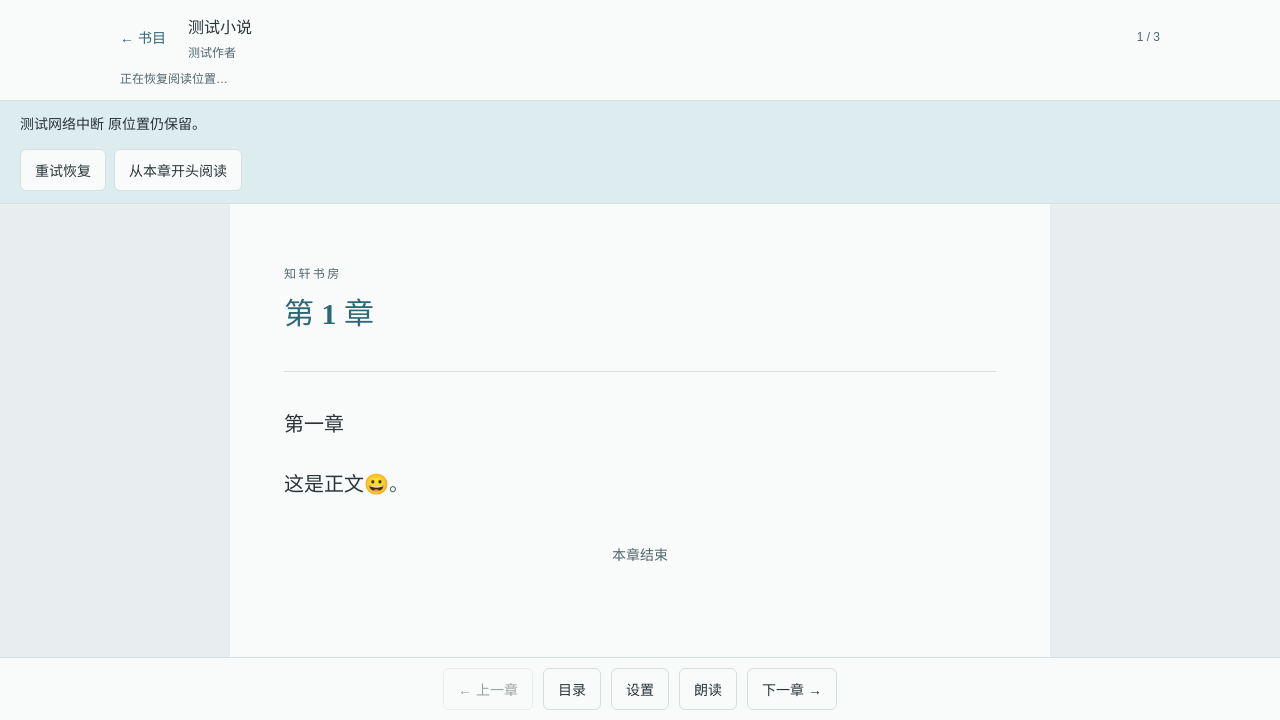
retries a pending local position after a network failure without replacing it with the server opening
Click the button "重试恢复": (63, 170) x1=20 y1=149 x2=106 y2=191
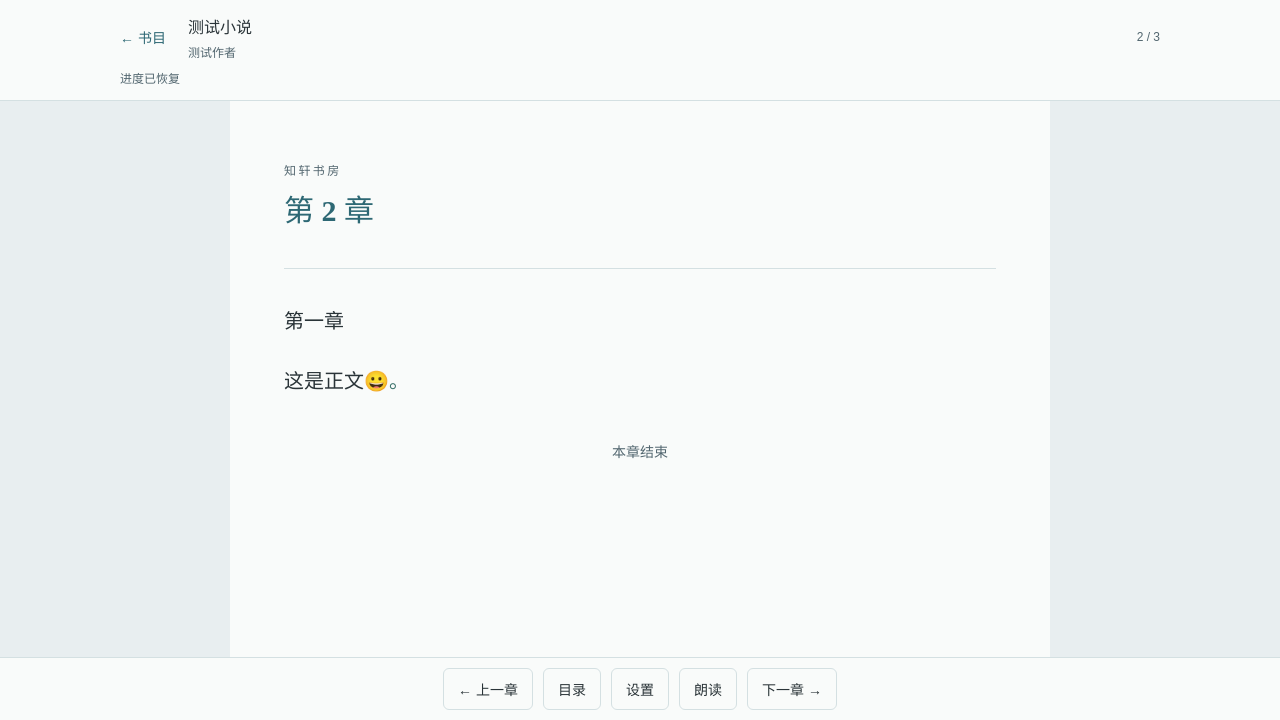
Result: the heading "第 2 章" is shown at x1=284 y1=194 x2=374 y2=227
Result: the text "进度已恢复" is shown at x1=120 y1=72 x2=180 y2=86
